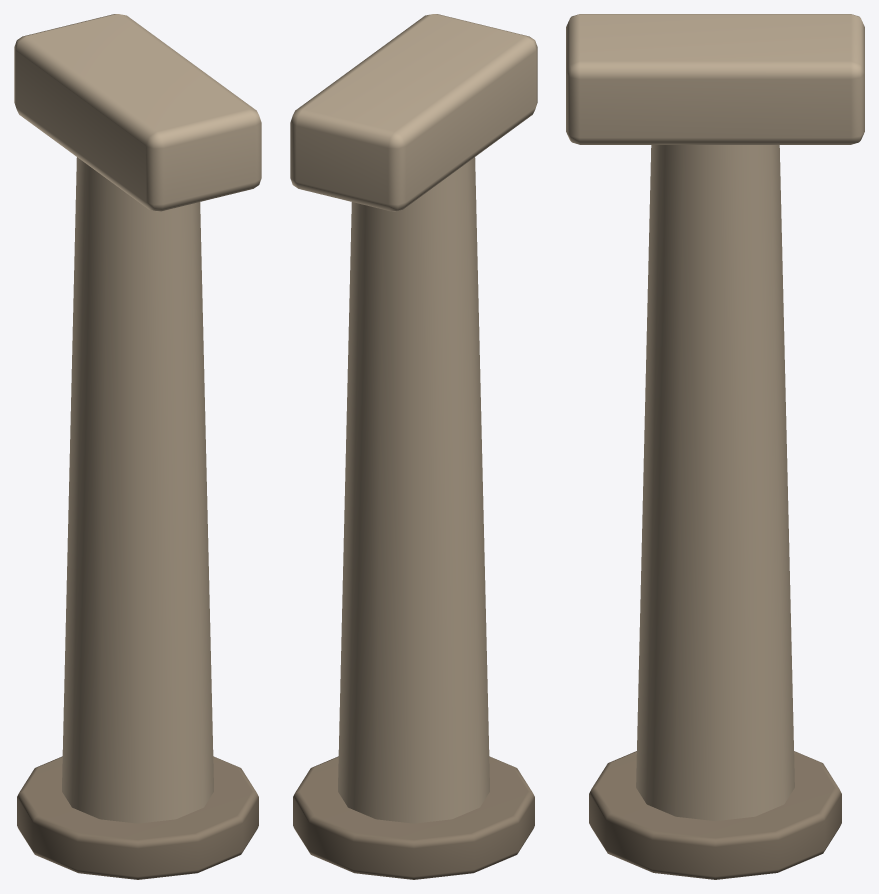
Rendered from dune_monorail_pylon.glb.
3 views of the same model, side by side, from view 1: azimuth 30°, elevation 25°; view 2: azimuth 150°, elevation 25°; view 3: azimuth 270°, elevation 25° (orthographic). The views are drawn at different scales.
Visible parts, largest first — view 1: Pylon; view 2: Pylon; view 3: Pylon.
Part boxes in pixels (x1,y1,x2,y2): Pylon: (14, 14, 261, 879); Pylon: (290, 14, 537, 879); Pylon: (566, 14, 864, 879).
Size of the model in its own units: 2.2 by 7.6 by 2.6.
